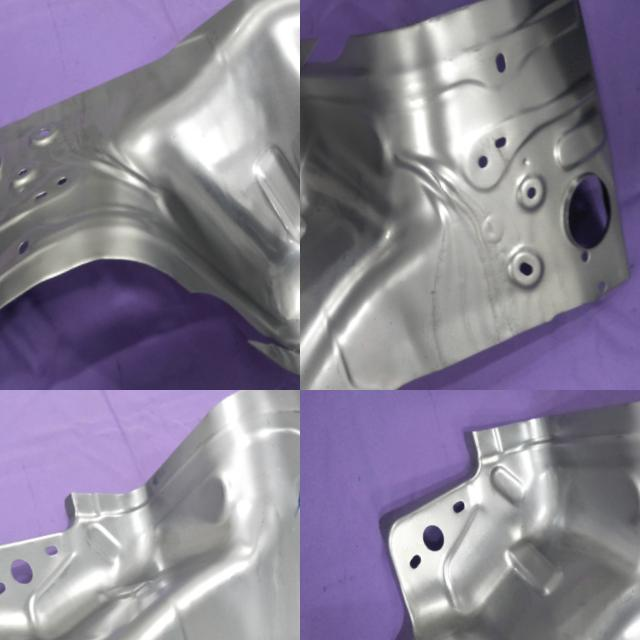Defect: (164, 244, 300, 390), (300, 2, 368, 102)
Healthy: (300, 390, 640, 640), (0, 390, 300, 640)
